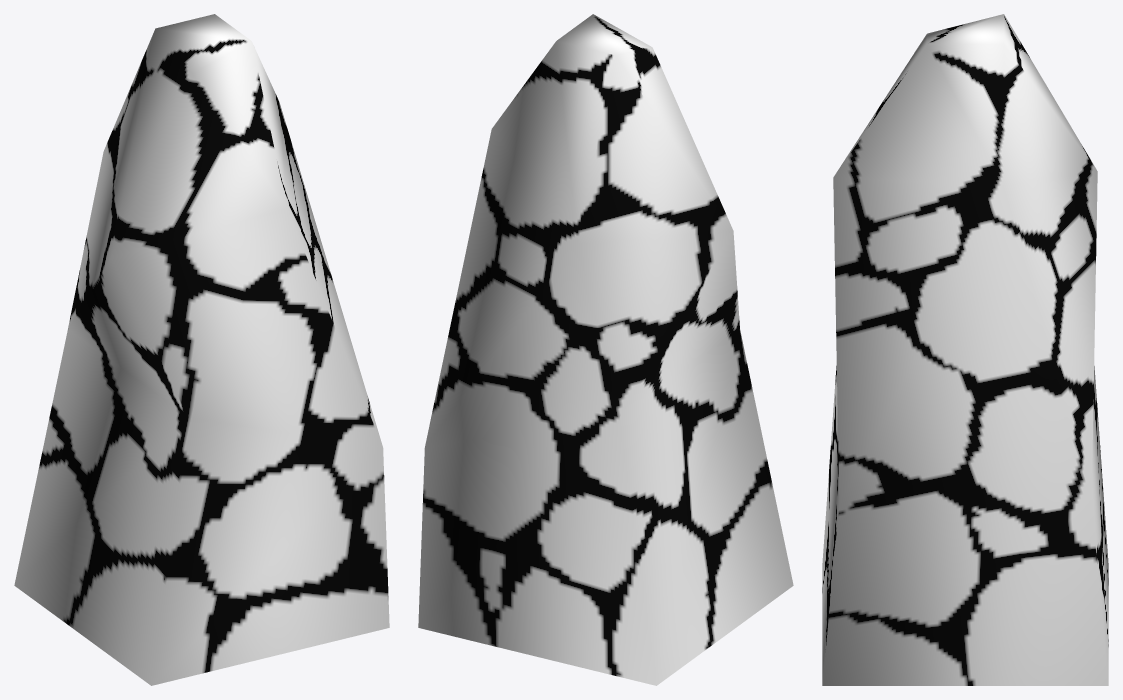
Rendered from Stone_04_02.fbx.
3 renders of one model, left to right at view 1: azimuth 30°, elevation 25°; view 2: azimuth 150°, elevation 25°; view 3: azimuth 270°, elevation 25°, orthographic. The views are drawn at different scales.
Parts seen in each view (by area): view 1: Stone_04_02; view 2: Stone_04_02; view 3: Stone_04_02.
Part boxes in pixels (left/top/right/bottom): Stone_04_02: left=14, top=14, right=389, bottom=685; Stone_04_02: left=418, top=14, right=793, bottom=685; Stone_04_02: left=822, top=14, right=1108, bottom=685.
Size of the model in its own units: 3.52 by 8 by 3.48.
